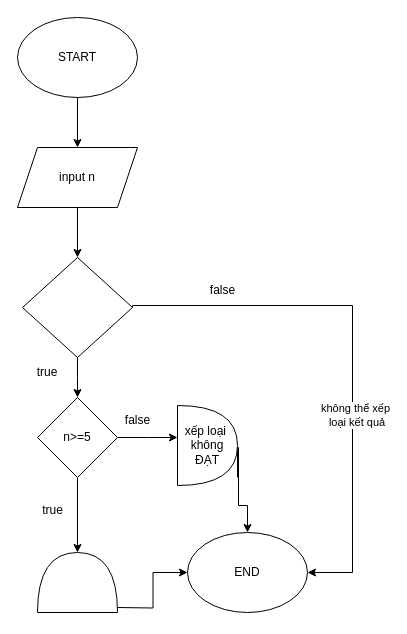
Image size: 407x634. Some labels were removed from this diagram. The centre of each missing label's shape, as x and y in pixels:
0 <= n <= 10: the point at 77,307
xếp loại ĐẠT: the point at 77,582
